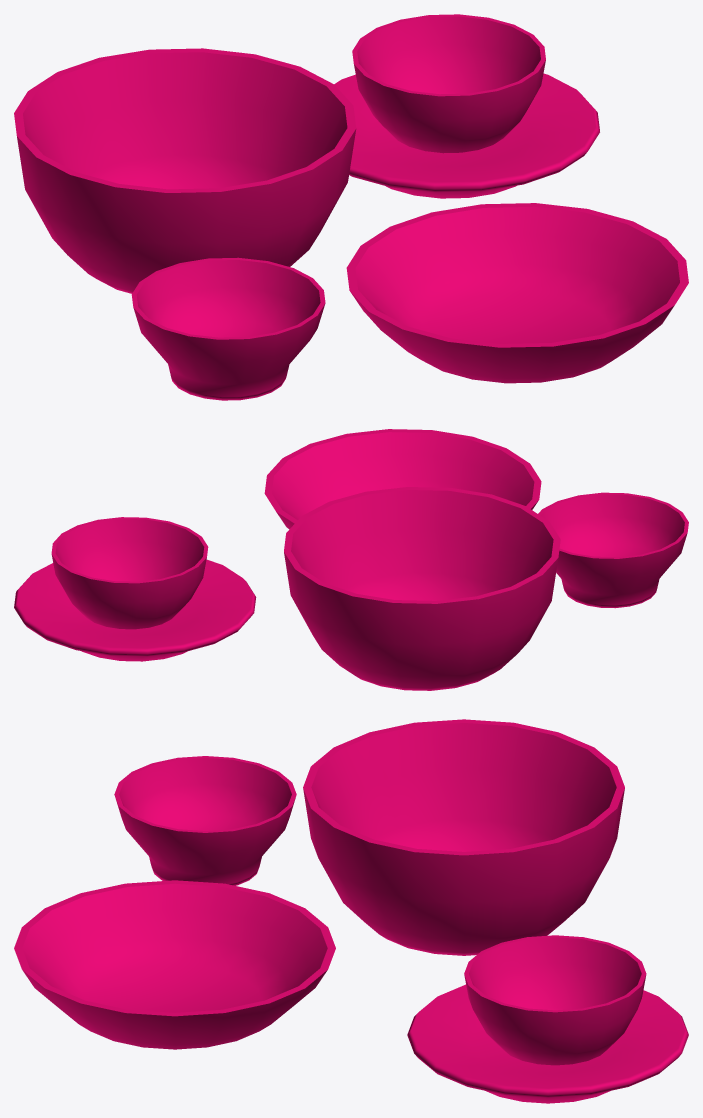
The model's file is Dishes_Grp_01_Lod0.fbx.
3 renders of one model, top to bottom at view 1: azimuth 30°, elevation 25°; view 2: azimuth 150°, elevation 25°; view 3: azimuth 270°, elevation 25°, orthographic. The views are drawn at different scales.
Visible parts, largest first — view 1: Dishes_Grp_01_Lod0; view 2: Dishes_Grp_01_Lod0; view 3: Dishes_Grp_01_Lod0.
Part boxes in pixels (<box>): Dishes_Grp_01_Lod0: <box>14,14,688,400</box>; Dishes_Grp_01_Lod0: <box>14,429,688,690</box>; Dishes_Grp_01_Lod0: <box>14,719,688,1103</box>.
Size of the model in its own units: 69.76 by 16.09 by 70.33.
